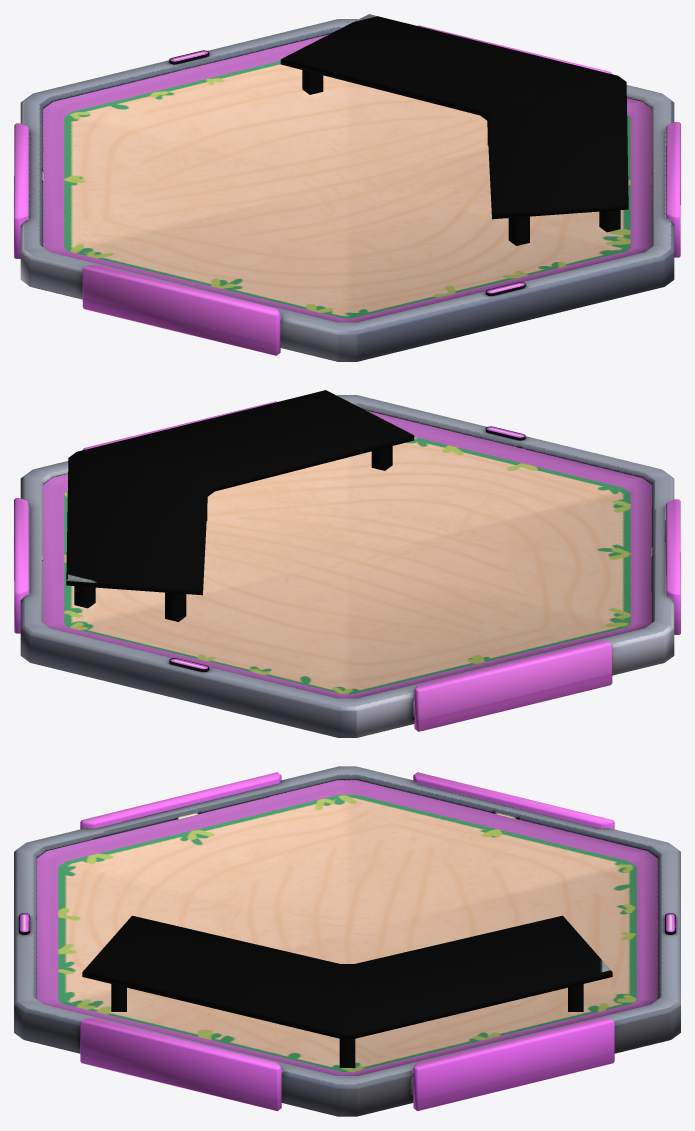
Rendered from HexagonLargeVIP02_Art.glb.
3 renders of one model, top to bottom at view 1: azimuth 30°, elevation 25°; view 2: azimuth 150°, elevation 25°; view 3: azimuth 270°, elevation 25°, orthographic. The views are drawn at different scales.
Parts seen in each view (by area): view 1: HexagonLargeVIP02_Art; view 2: HexagonLargeVIP02_Art; view 3: HexagonLargeVIP02_Art.
Boxes of the visible parts, box(x1,y1,x2,y2) form: HexagonLargeVIP02_Art: box(14, 14, 680, 361); HexagonLargeVIP02_Art: box(14, 390, 680, 737); HexagonLargeVIP02_Art: box(14, 766, 680, 1116).
Bounding box in the file's own units: 31.56 × 3.11 × 27.74.
Materials: 2 (2 with a texture image).
